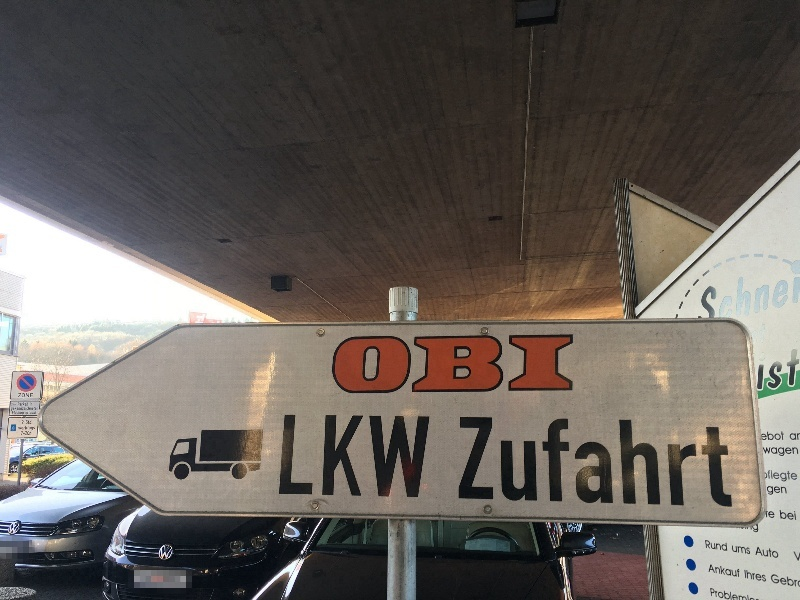text: (465, 418, 480, 508), (481, 418, 496, 508), (497, 418, 512, 508), (513, 418, 528, 508), (529, 418, 544, 508), (545, 418, 560, 508), (561, 418, 576, 508), (577, 418, 592, 508), (593, 418, 608, 508), (609, 418, 624, 508), (625, 418, 640, 508), (641, 418, 656, 508), (657, 418, 672, 508), (673, 418, 688, 508), (689, 418, 704, 508), (705, 418, 720, 508), (289, 415, 304, 499), (305, 415, 320, 499), (321, 415, 336, 499), (337, 415, 352, 499), (353, 415, 368, 499), (369, 415, 384, 499), (385, 415, 400, 499), (401, 415, 416, 499), (417, 415, 432, 499), (721, 418, 733, 508), (705, 261, 720, 326), (721, 261, 736, 326), (737, 261, 752, 326), (753, 261, 768, 326), (769, 261, 784, 326), (785, 261, 800, 326), (337, 336, 352, 393), (353, 336, 368, 393), (369, 336, 384, 393), (385, 336, 400, 393), (401, 336, 416, 393), (417, 336, 432, 393), (433, 336, 448, 393), (449, 336, 464, 393), (465, 336, 480, 393), (481, 336, 496, 393), (497, 336, 512, 393), (513, 336, 528, 393), (529, 336, 544, 393), (545, 336, 560, 393), (561, 336, 574, 393), (769, 345, 784, 393), (785, 345, 800, 393), (756, 345, 768, 393), (460, 418, 464, 508), (284, 415, 288, 499), (753, 325, 767, 345), (700, 261, 704, 326), (721, 564, 736, 579), (785, 574, 800, 588), (753, 570, 767, 584), (481, 539, 496, 552), (771, 574, 784, 588), (769, 471, 784, 483), (737, 522, 752, 534), (705, 540, 720, 552), (721, 588, 736, 600), (737, 588, 752, 600), (769, 431, 785, 442), (497, 539, 510, 552), (769, 447, 784, 458), (785, 447, 800, 458), (709, 564, 720, 579), (785, 471, 798, 483), (756, 547, 768, 560), (769, 486, 784, 495), (785, 510, 797, 521), (769, 547, 779, 560), (470, 539, 480, 552), (737, 545, 751, 554), (710, 588, 720, 600), (334, 336, 336, 393), (744, 570, 752, 584), (790, 432, 800, 443), (198, 314, 208, 324), (721, 540, 728, 552), (753, 588, 760, 600), (761, 431, 768, 442), (753, 522, 759, 534), (19, 393, 32, 398), (19, 426, 32, 431), (17, 407, 32, 411), (763, 447, 768, 458), (779, 510, 784, 521), (769, 511, 775, 519), (737, 564, 740, 579), (21, 432, 32, 436), (18, 403, 32, 406), (22, 421, 32, 425), (765, 471, 768, 483), (732, 545, 736, 554), (25, 431, 32, 436), (26, 420, 32, 425), (17, 411, 24, 415), (33, 407, 39, 411), (26, 411, 32, 415), (765, 511, 768, 519), (11, 407, 16, 411), (751, 325, 752, 345), (785, 486, 787, 495), (12, 411, 16, 415), (33, 411, 37, 415), (24, 433, 32, 435), (33, 426, 35, 431), (767, 486, 768, 495), (30, 403, 32, 406), (33, 393, 34, 398)
